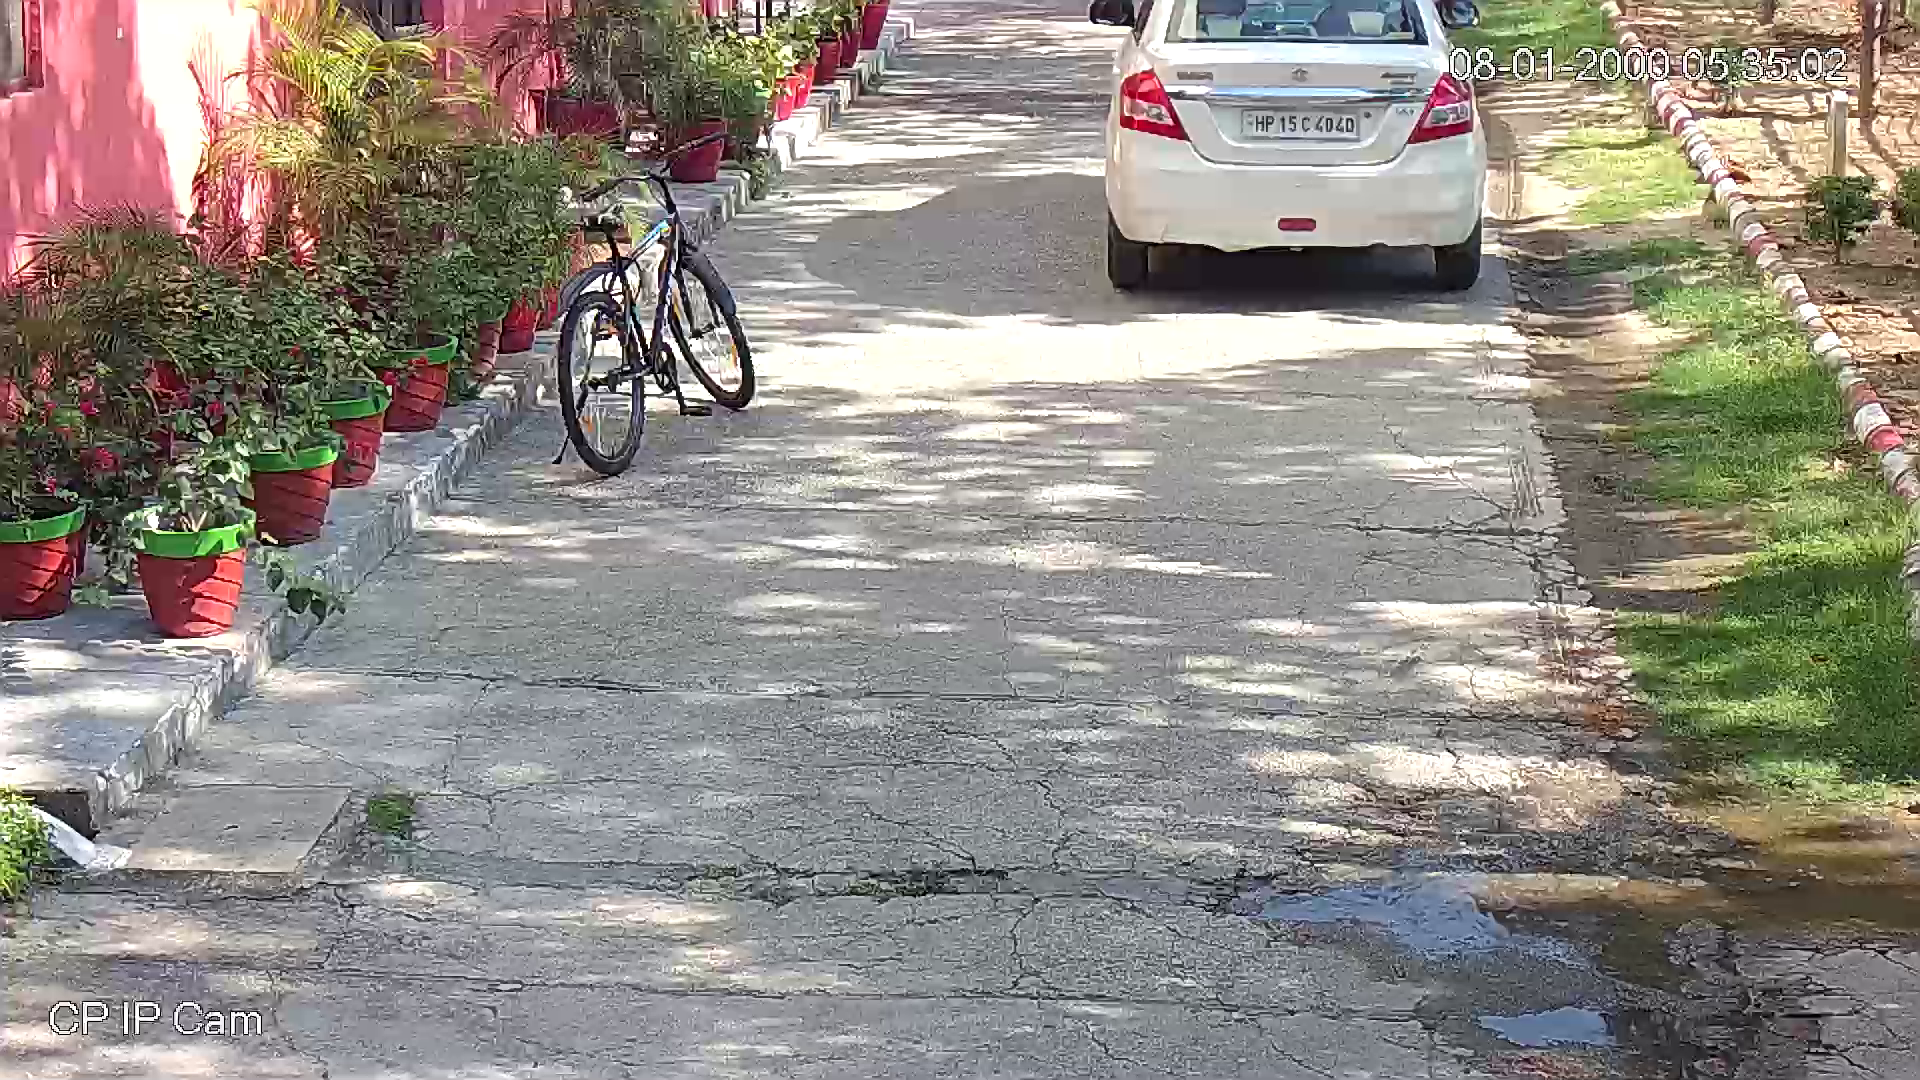plate: (1244, 104, 1356, 138)
